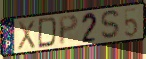2: (80, 10, 99, 46)
5: (124, 6, 140, 38)
D: (37, 16, 59, 50)
P: (58, 14, 80, 47)
S: (99, 9, 122, 42)
X: (17, 19, 36, 52)
